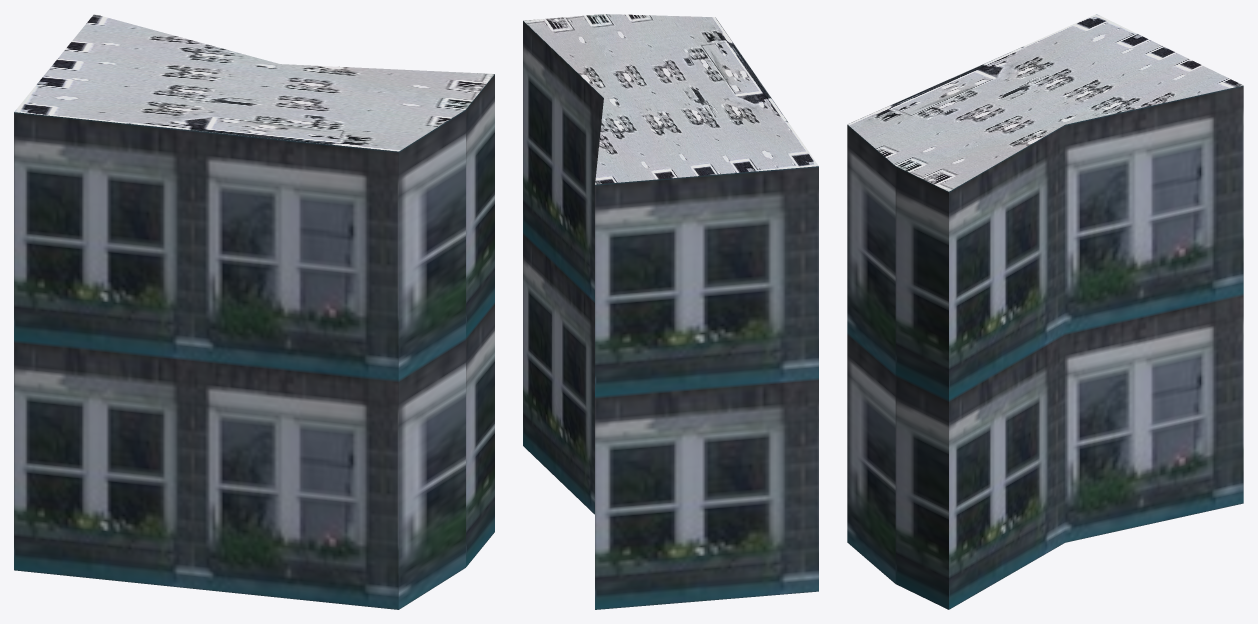
File: ResTex__4803.fbx
3 views of the same model, side by side, from view 1: azimuth 30°, elevation 25°; view 2: azimuth 150°, elevation 25°; view 3: azimuth 270°, elevation 25° (orthographic). The views are drawn at different scales.
Parts seen in each view (by area): view 1: CityEngineMaterial_11_m, CityEngineMaterial_m; view 2: CityEngineMaterial_11_m, CityEngineMaterial_m; view 3: CityEngineMaterial_11_m, CityEngineMaterial_m.
Boxes of the visible parts, x1,y1,x2,y2 form: CityEngineMaterial_11_m: (14, 74, 494, 609); CityEngineMaterial_m: (14, 14, 494, 151); CityEngineMaterial_11_m: (523, 21, 818, 609); CityEngineMaterial_m: (523, 14, 818, 184); CityEngineMaterial_11_m: (847, 85, 1243, 609); CityEngineMaterial_m: (847, 14, 1243, 191).
Bounding box in the file's own units: 5.48 × 6 × 5.16.
Materials: 2 (2 with a texture image).
